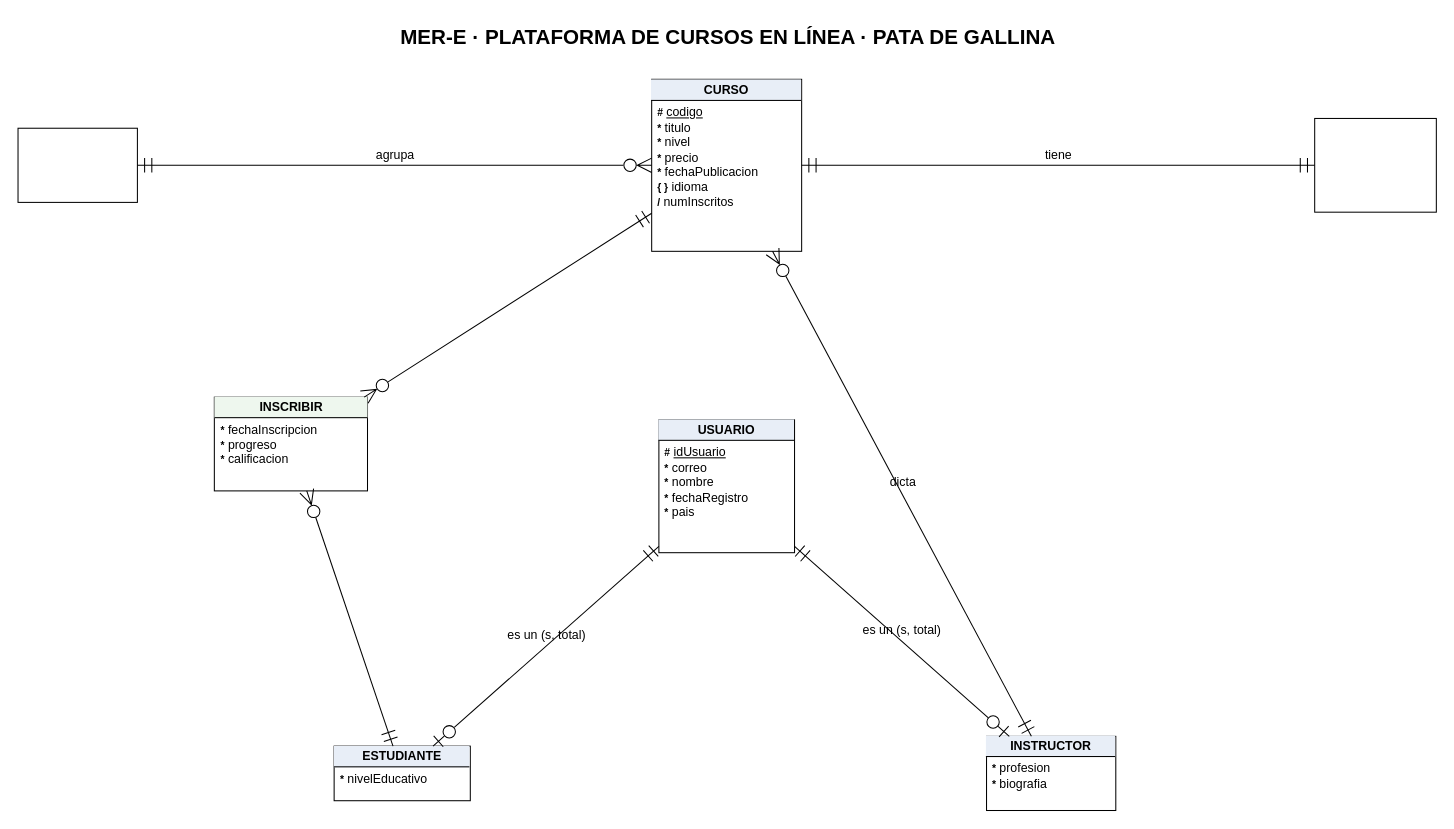
This 1454x829 diagram has some shape labels left out. Here are the shapes that lost their labels. From the top down, the centre of each, then its label:
At pixel 77 164: "CATEGORIA # idCategoria * nombre".
At pixel 1375 164: "FORO # idForo * nombreForo * moderado".
